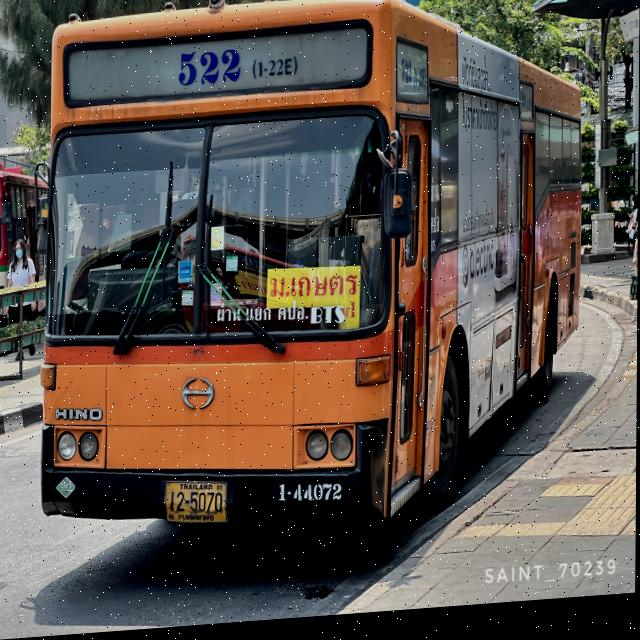BMTA-bus: (29, 0, 593, 567)
Bus-Line-Number: (155, 36, 305, 95)
Destination-Sign-Extra-Bus-Expressway: (265, 266, 361, 338)
